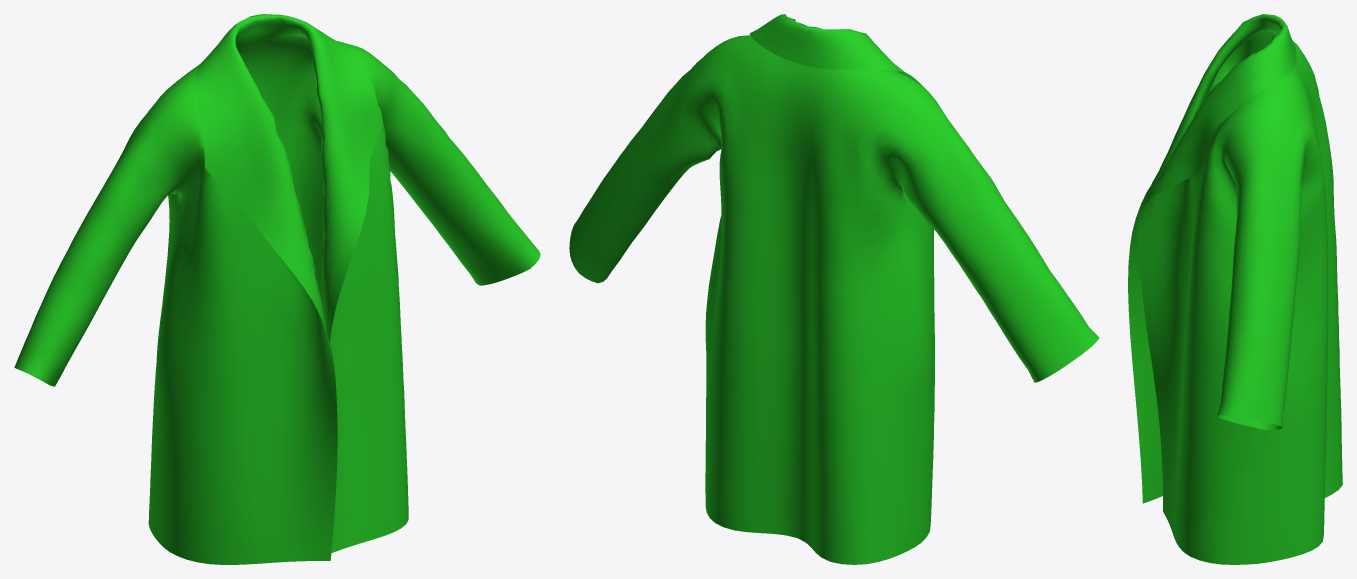
The model's file is Outer_simpleModel_high.obj.
3 views of the same model, side by side, from view 1: azimuth 30°, elevation 25°; view 2: azimuth 150°, elevation 25°; view 3: azimuth 270°, elevation 25° (orthographic). The views are drawn at different scales.
Visible parts, largest first — view 1: Outer_simpleModel_high; view 2: Outer_simpleModel_high; view 3: Outer_simpleModel_high.
Boxes of the visible parts, box(x1,y1,x2,y2) form: Outer_simpleModel_high: box(14, 14, 540, 564); Outer_simpleModel_high: box(569, 14, 1099, 564); Outer_simpleModel_high: box(1128, 14, 1342, 564).
Bounding box in the file's own units: 104 × 96.09 × 38.53.
